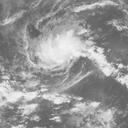cyclone: (21, 26, 87, 75)
